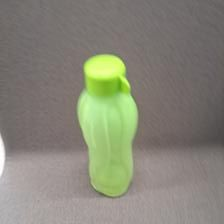bottle: (77, 50, 138, 196)
